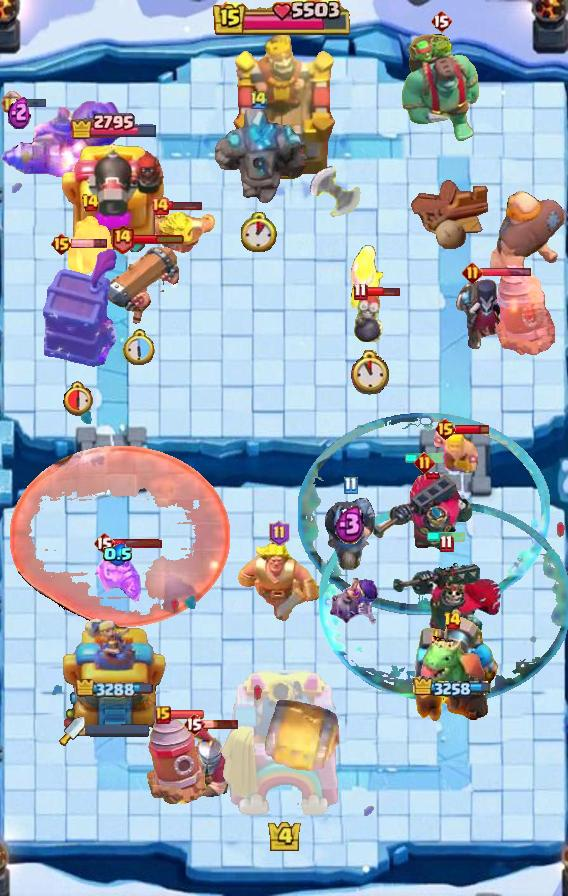archer: (431, 427, 483, 473)
balloon: (488, 190, 568, 278)
bar: (61, 615, 166, 731)
battle-healer: (99, 242, 181, 326)
bomb-tower: (349, 244, 383, 320)
cannoneer-tower: (211, 109, 307, 207)
clock: (213, 0, 355, 38)
dart-goblin: (40, 249, 118, 369)
dirt: (260, 694, 344, 778)
electro-spirit: (334, 504, 366, 544), (8, 95, 31, 129), (103, 543, 133, 566)
electro-wizard: (418, 623, 486, 693)
elixir: (348, 350, 391, 395), (241, 212, 277, 252), (123, 329, 157, 367), (63, 380, 97, 416)
emote: (131, 233, 185, 245), (480, 266, 532, 277), (113, 539, 163, 550), (454, 424, 490, 437), (203, 718, 241, 730), (12, 96, 48, 108), (169, 708, 205, 720), (72, 238, 109, 249), (365, 287, 401, 298), (169, 201, 204, 212)
firecracker-evolution: (95, 545, 141, 603)
goblin-ball: (326, 577, 380, 627)
goblin-hut: (236, 543, 322, 623), (129, 209, 217, 255)
ice-golem: (352, 292, 386, 348)
ice-spirit: (404, 453, 444, 463), (426, 532, 466, 542)
inferno-dragon: (322, 493, 378, 573)
inferno-tower: (389, 555, 503, 655), (370, 472, 478, 556)
king-tower: (219, 670, 349, 826), (231, 35, 337, 182)
king-tower-bar: (85, 723, 149, 736)
lava-hound: (399, 31, 483, 143)
magic-archer: (147, 711, 207, 805), (495, 264, 555, 356)
mortar-evolution: (62, 215, 118, 281)
pad_0: (298, 412, 550, 616), (320, 501, 568, 707)
phoenix-egg: (9, 445, 232, 629)
rascal-boy: (454, 277, 512, 349)
royal-giant: (304, 166, 362, 228)
selected: (69, 111, 159, 139), (413, 676, 493, 700), (75, 679, 152, 700)
text: (110, 223, 135, 253), (51, 232, 74, 256), (434, 417, 457, 441), (270, 520, 291, 546), (1, 90, 24, 113), (430, 9, 452, 33), (93, 531, 115, 555), (183, 712, 205, 736), (414, 451, 435, 473), (462, 261, 483, 282), (249, 89, 269, 111), (150, 196, 170, 216), (81, 193, 100, 213), (443, 611, 462, 631), (155, 706, 171, 724), (438, 535, 453, 553), (343, 477, 357, 496), (353, 283, 367, 301)
tower-bar: (60, 138, 168, 256), (403, 615, 503, 731)
wall-breaker-evolution: (181, 720, 241, 800)
wizard: (0, 100, 124, 178)
